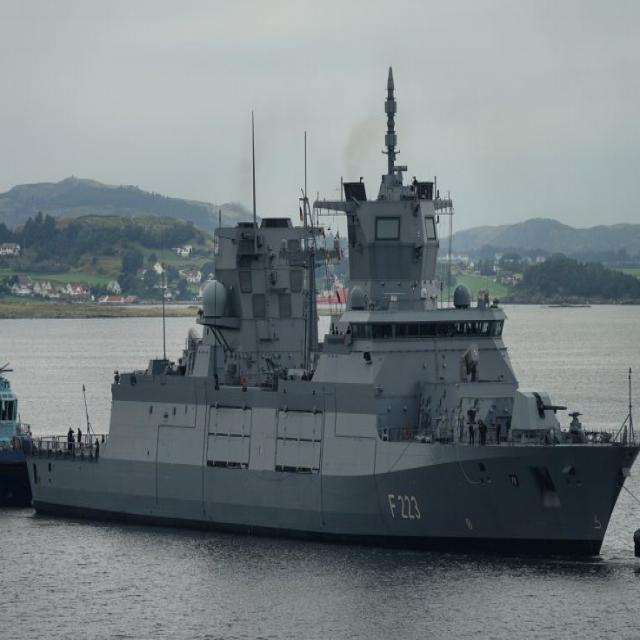Fragata: (20, 59, 640, 574)
